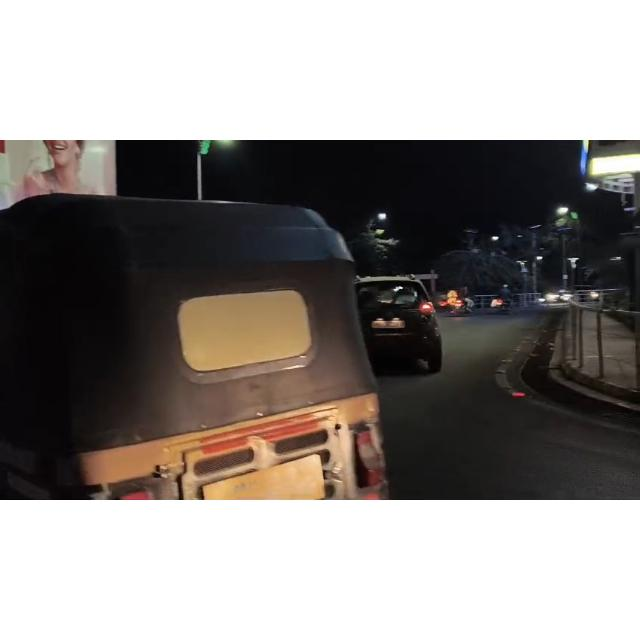auto: (5, 185, 383, 495)
car: (352, 270, 453, 390)
